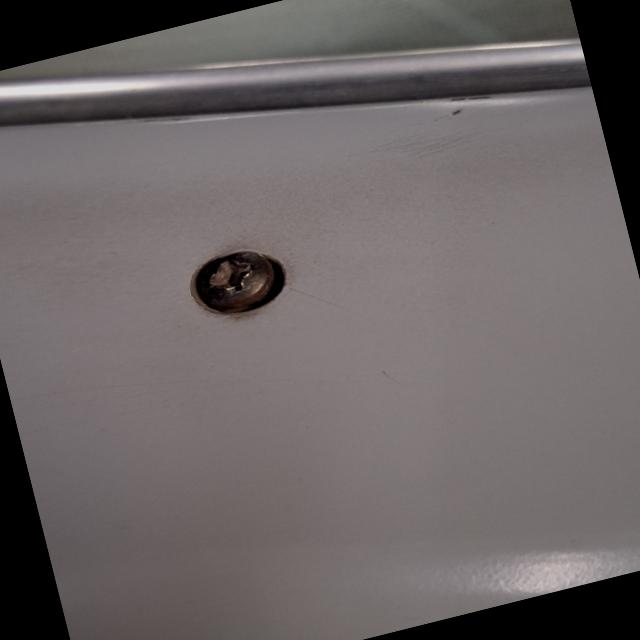Phillips: (179, 239, 286, 325)
